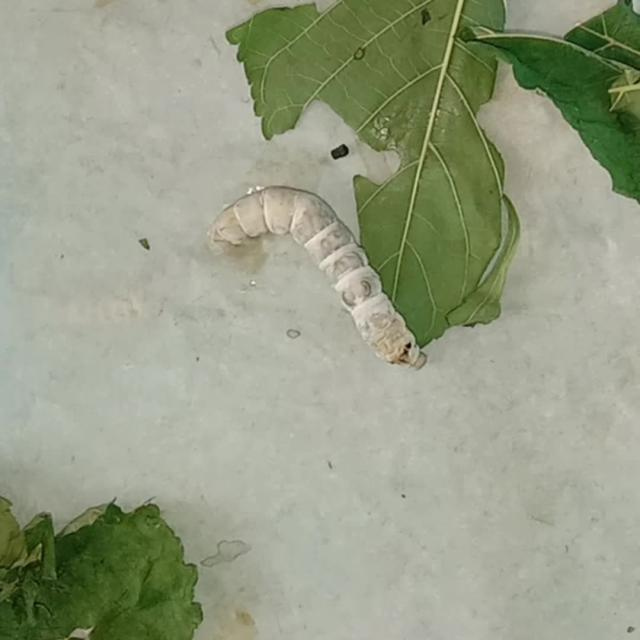Grasserie: (198, 174, 428, 379)
